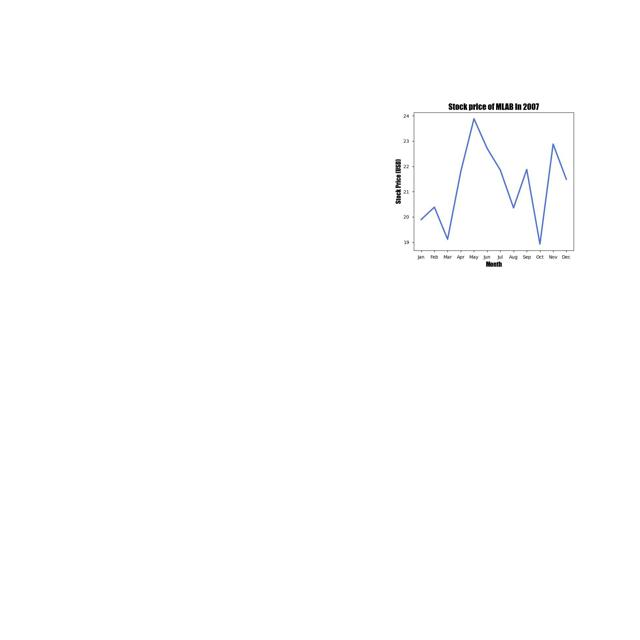Graph: (360, 91, 621, 270)
